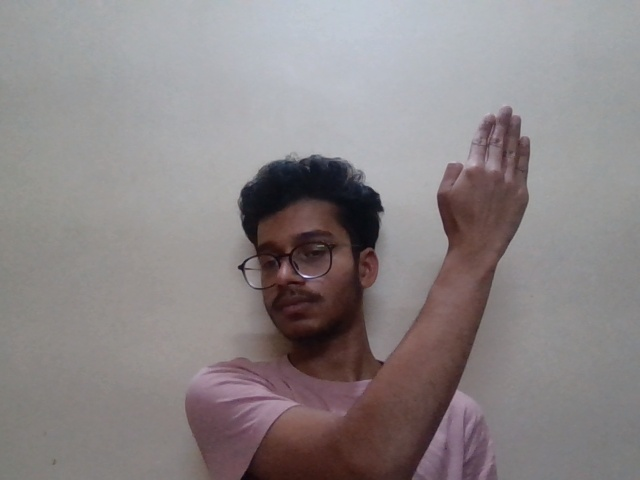good-bye: (428, 89, 549, 281)
